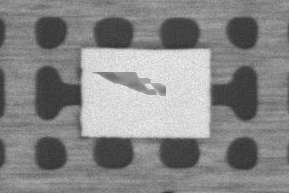DIE_INK: (94, 70, 166, 96)
